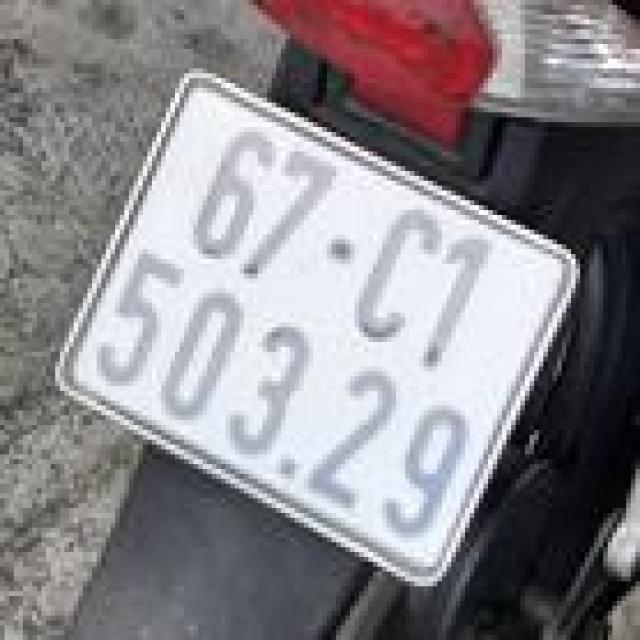0: (145, 270, 260, 436)
1: (392, 219, 519, 387)
2: (300, 355, 418, 523)
3: (215, 309, 333, 470)
5: (84, 241, 198, 402)
6: (179, 116, 290, 273)
7: (234, 136, 352, 297)
9: (367, 384, 491, 557)
C: (341, 199, 457, 356)
